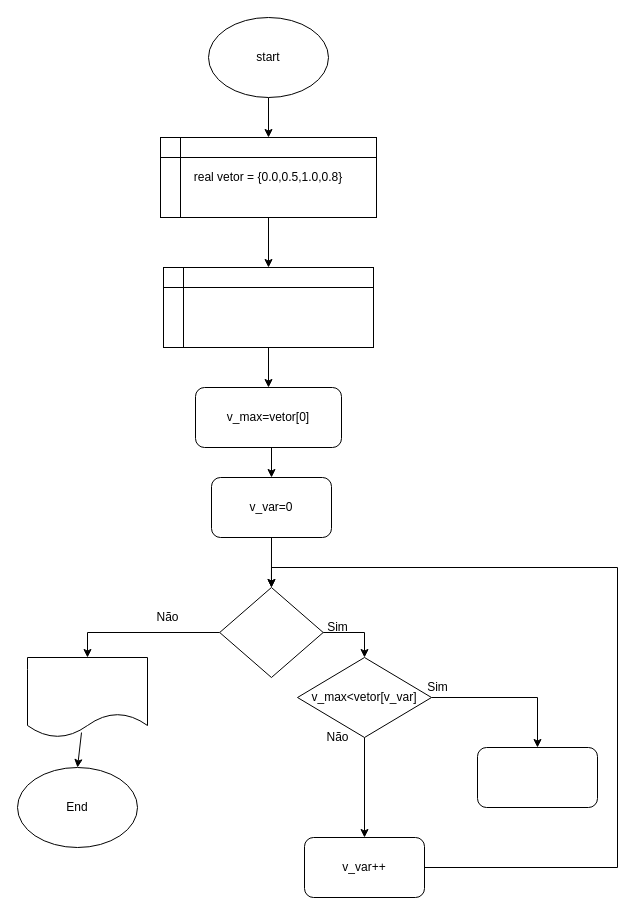
This 643x915 diagram has some shape labels left out. Here are the shapes that lost their labels. From the top down, the centre of each, then its label:
(x=268, y=307): int v_var, v_max
(x=271, y=632): v_var<4
(x=87, y=697): v_max
(x=537, y=777): v_max=vetor[v_var]
